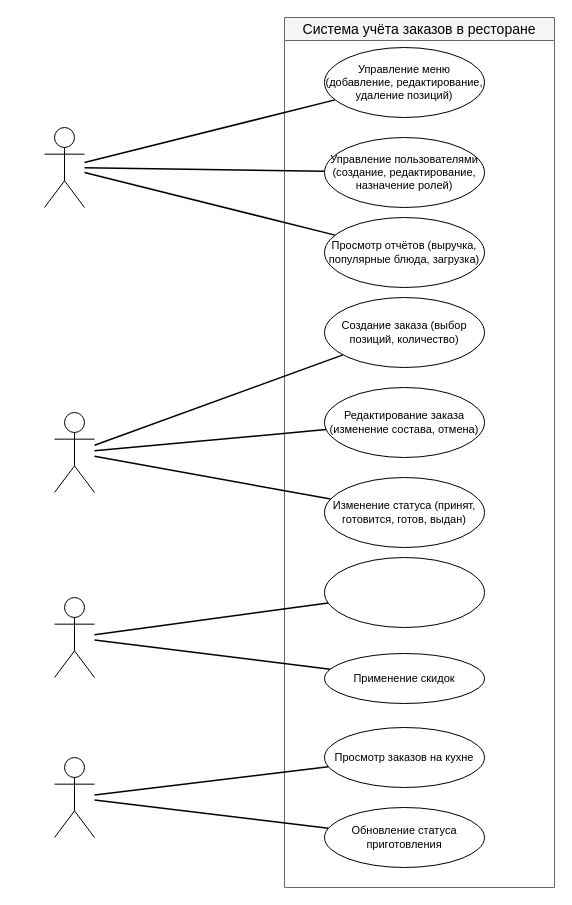
This 572x905 diagram has some shape labels left out. Here are the shapes that lost their labels. From the top down, the box of each, then its label:
(44, 126, 84, 208): Администратор
(54, 412, 94, 492): Официант
(324, 556, 484, 628): Оплата заказа (расчёт суммы, формирование чека)
(54, 596, 94, 678): Кассир
(54, 756, 94, 838): Повар
